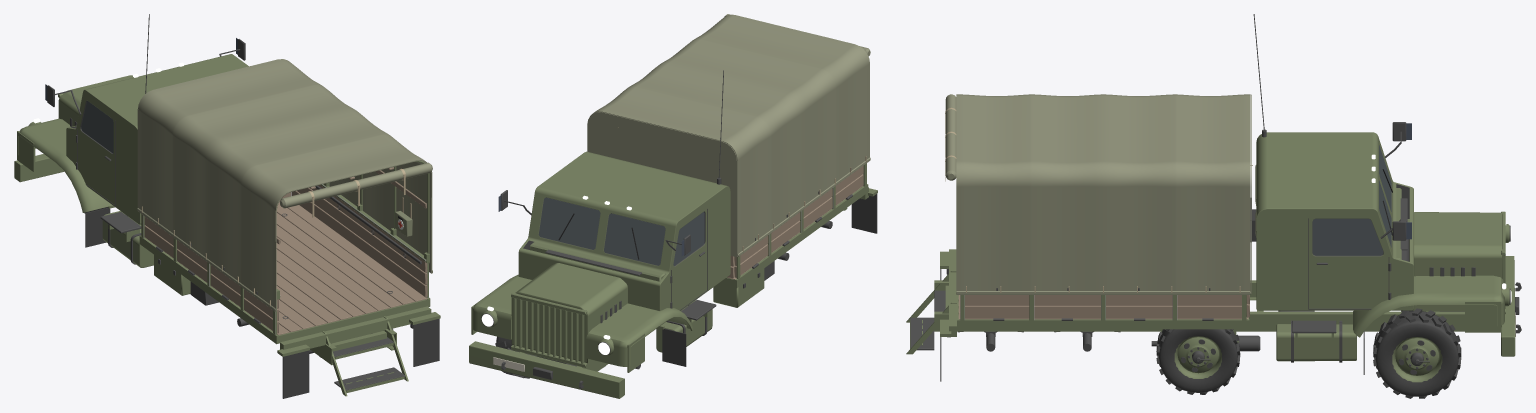
Rendered from truck.glb.
The picture shows the model from 3 angles, left to right: view 1: azimuth 30°, elevation 25°; view 2: azimuth 150°, elevation 25°; view 3: azimuth 270°, elevation 25°; orthographic projection. The views are drawn at different scales.
Parts seen in each view (by area): view 1: canopy, bed, cab, chassis, ladder; view 2: canopy, cab, chassis, bed; view 3: canopy, cab, chassis, bed, wheel, ladder.
Boxes of the visible parts, x1,y1,x2,y2 form: canopy: (137, 59, 432, 311); bed: (139, 184, 430, 344); cab: (17, 14, 248, 224); chassis: (14, 154, 440, 398); ladder: (322, 316, 408, 396); canopy: (587, 14, 870, 257); cab: (471, 70, 730, 372); chassis: (469, 187, 877, 398); bed: (719, 163, 868, 287); canopy: (945, 94, 1256, 294); cab: (1253, 14, 1511, 337); chassis: (934, 249, 1521, 394); bed: (957, 288, 1249, 329); wheel: (1373, 308, 1461, 398); ladder: (906, 270, 956, 354).
Size of the model in its own units: 2.95 by 4.27 by 7.65.
